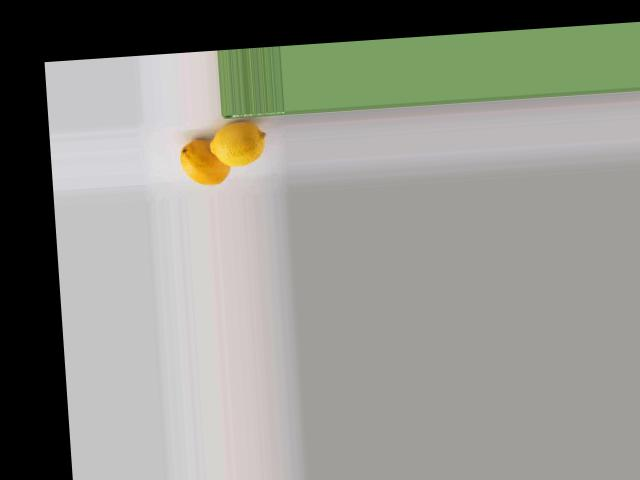lemon: (177, 141, 228, 188)
